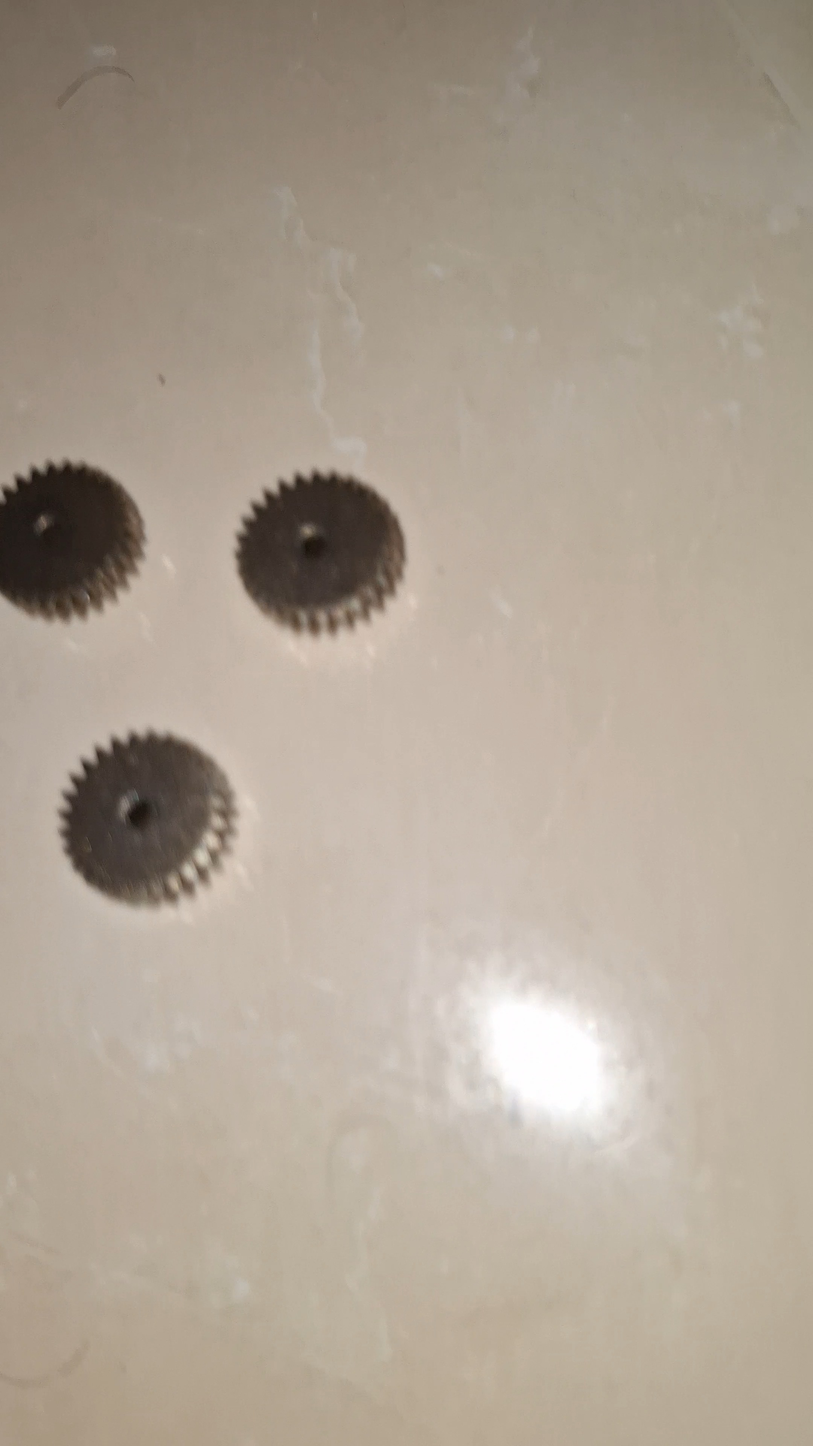spur gear: (61, 732, 235, 903), (237, 473, 405, 633), (0, 462, 144, 619)
